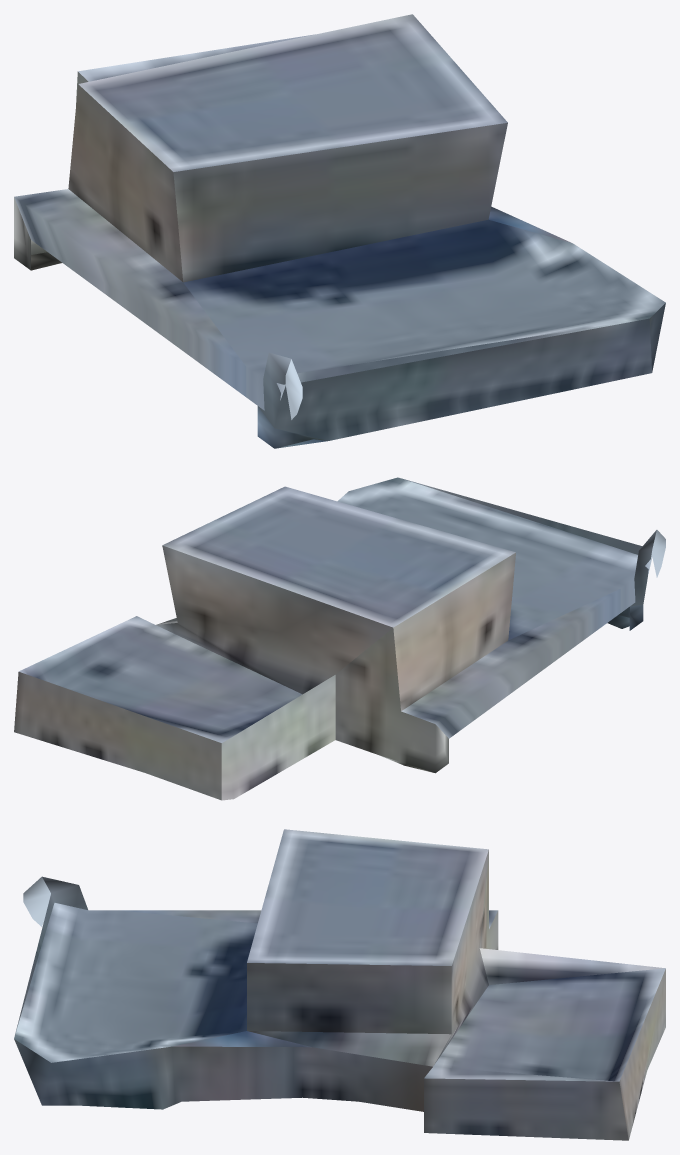
The picture shows the model from 3 angles, top to bottom: view 1: azimuth 30°, elevation 25°; view 2: azimuth 150°, elevation 25°; view 3: azimuth 270°, elevation 25°; orthographic projection. The views are drawn at different scales.
Parts seen in each view (by area): view 1: 3043627270437061645_0; view 2: 3043627270437061645_0; view 3: 3043627270437061645_0.
Part boxes in pixels (x1,y1,x2,y2): 3043627270437061645_0: [14, 14, 665, 448]; 3043627270437061645_0: [14, 477, 665, 800]; 3043627270437061645_0: [14, 829, 665, 1140].
Bounding box in the file's own units: 14.11 × 5.24 × 21.6.
1 material, 1 textured.
